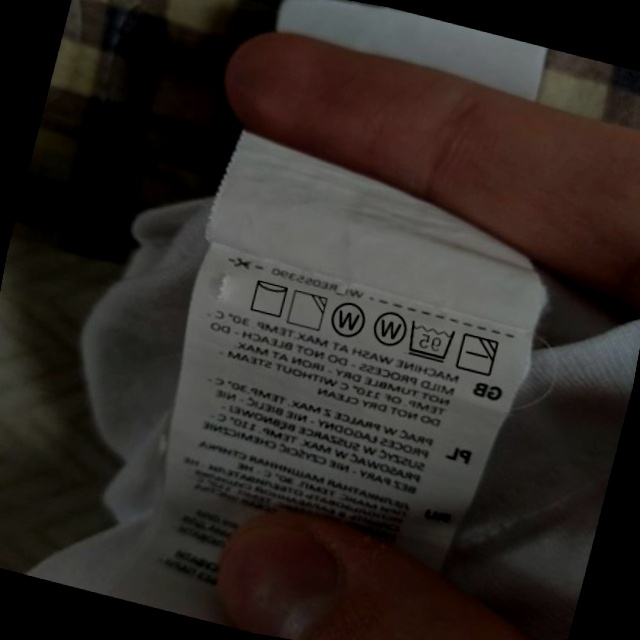95C: (402, 316, 459, 366)
dry_flat_in_shade: (453, 328, 503, 380)
line_dry: (244, 274, 293, 321)
shade_dry: (283, 286, 331, 334)
wet_clean: (366, 303, 411, 352), (325, 297, 371, 344)
